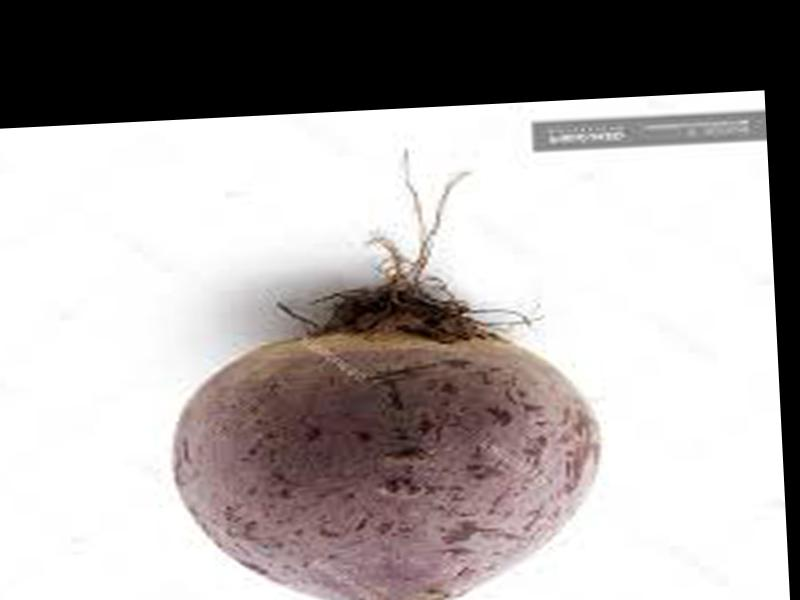Beet: (156, 138, 613, 600)
